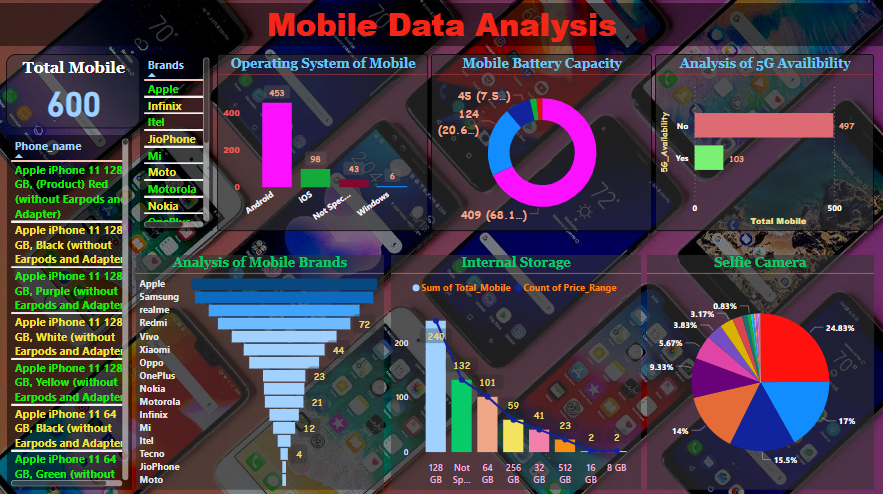

This screenshot's page, from the dashboard's own definition file:
{"tool":"powerbi","page":{"name":"Mobile Data Analysis","canvas":[1280,720],"ordinal":0},"visuals":[{"type":"card","title":"Total Mobile","fields":{"Values":["Sum(sqlbi mobile.Total_Mobile)"]},"box":[13,82.1,193,106.6],"z":0},{"type":"tableEx","fields":{"Values":["sqlbi mobile.Phone_name"]},"box":[14.4,198.7,180,511.2],"z":1000},{"type":"tableEx","fields":{"Values":["sqlbi mobile.Brands"]},"box":[205.9,82.1,105.1,254.9],"z":2000},{"type":"clusteredColumnChart","title":"Operating System of Mobile","fields":{"Category":["sqlbi mobile.Operating_System_Type"],"Y":["Sum(sqlbi mobile.Total_Mobile)"]},"box":[316.8,82.1,303.8,254.9],"z":3000},{"type":"donutChart","title":"Mobile Battery Capacity","fields":{"Y":["Sum(sqlbi mobile.Total_Mobile)"],"Category":["sqlbi mobile.Battery_Capacity_Range"]},"box":[625,82.1,318.2,254.9],"z":4000},{"type":"barChart","title":"Analysis of 5G Availibility","fields":{"Category":["sqlbi mobile.5G_Availability"],"Y":["Sum(sqlbi mobile.Total_Mobile)"]},"box":[947.5,82.1,315.4,254.9],"z":5000},{"type":"textbox","title":"Mobile Data Analysis","box":[0,8.6,1280.2,61.9],"z":6000},{"type":"funnel","title":"Analysis of Mobile Brands","fields":{"Category":["sqlbi mobile.Brands"],"Y":["Sum(sqlbi mobile.Total_Mobile)"]},"box":[200.2,371.5,357.1,338.4],"z":7000},{"type":"lineClusteredColumnComboChart","title":"Internal Storage","fields":{"Category":["sqlbi mobile.Internal_Storage"],"Y":["Sum(sqlbi mobile.Total_Mobile)"],"Y2":["CountNonNull(sqlbi mobile.Price_Range)"]},"box":[567.4,371.5,360,338.4],"z":8000},{"type":"pieChart","title":"Selfie Camera","fields":{"Category":["sqlbi mobile.Selfie_Camera"],"Y":["Sum(sqlbi mobile.Total_Mobile)"]},"box":[936,371.5,326.9,338.4],"z":9000}]}

Visuals, with their boxes in screenshot pixels (x1, y1, x2, y2), scaled from the page's 1280x720 canvas onto the 883x494 screenshot:
"Total Mobile" card: Rect(9, 56, 142, 129)
tableEx - sqlbi mobile.Phone_name: Rect(10, 136, 134, 487)
tableEx - sqlbi mobile.Brands: Rect(142, 56, 215, 231)
"Operating System of Mobile" clusteredColumnChart: Rect(219, 56, 428, 231)
"Mobile Battery Capacity" donutChart: Rect(431, 56, 651, 231)
"Analysis of 5G Availibility" barChart: Rect(654, 56, 871, 231)
"Mobile Data Analysis" textbox: Rect(0, 6, 882, 48)
"Analysis of Mobile Brands" funnel: Rect(138, 255, 384, 487)
"Internal Storage" lineClusteredColumnComboChart: Rect(391, 255, 640, 487)
"Selfie Camera" pieChart: Rect(646, 255, 871, 487)
